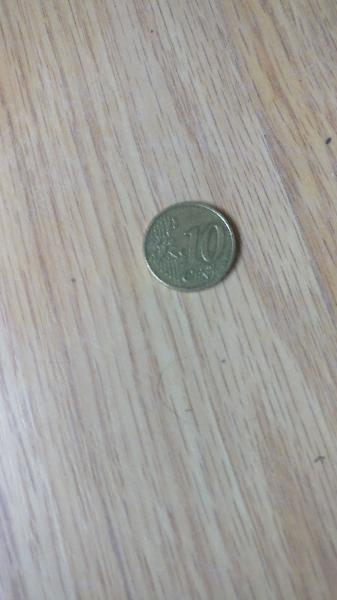Ten Cent: (135, 194, 257, 296)
